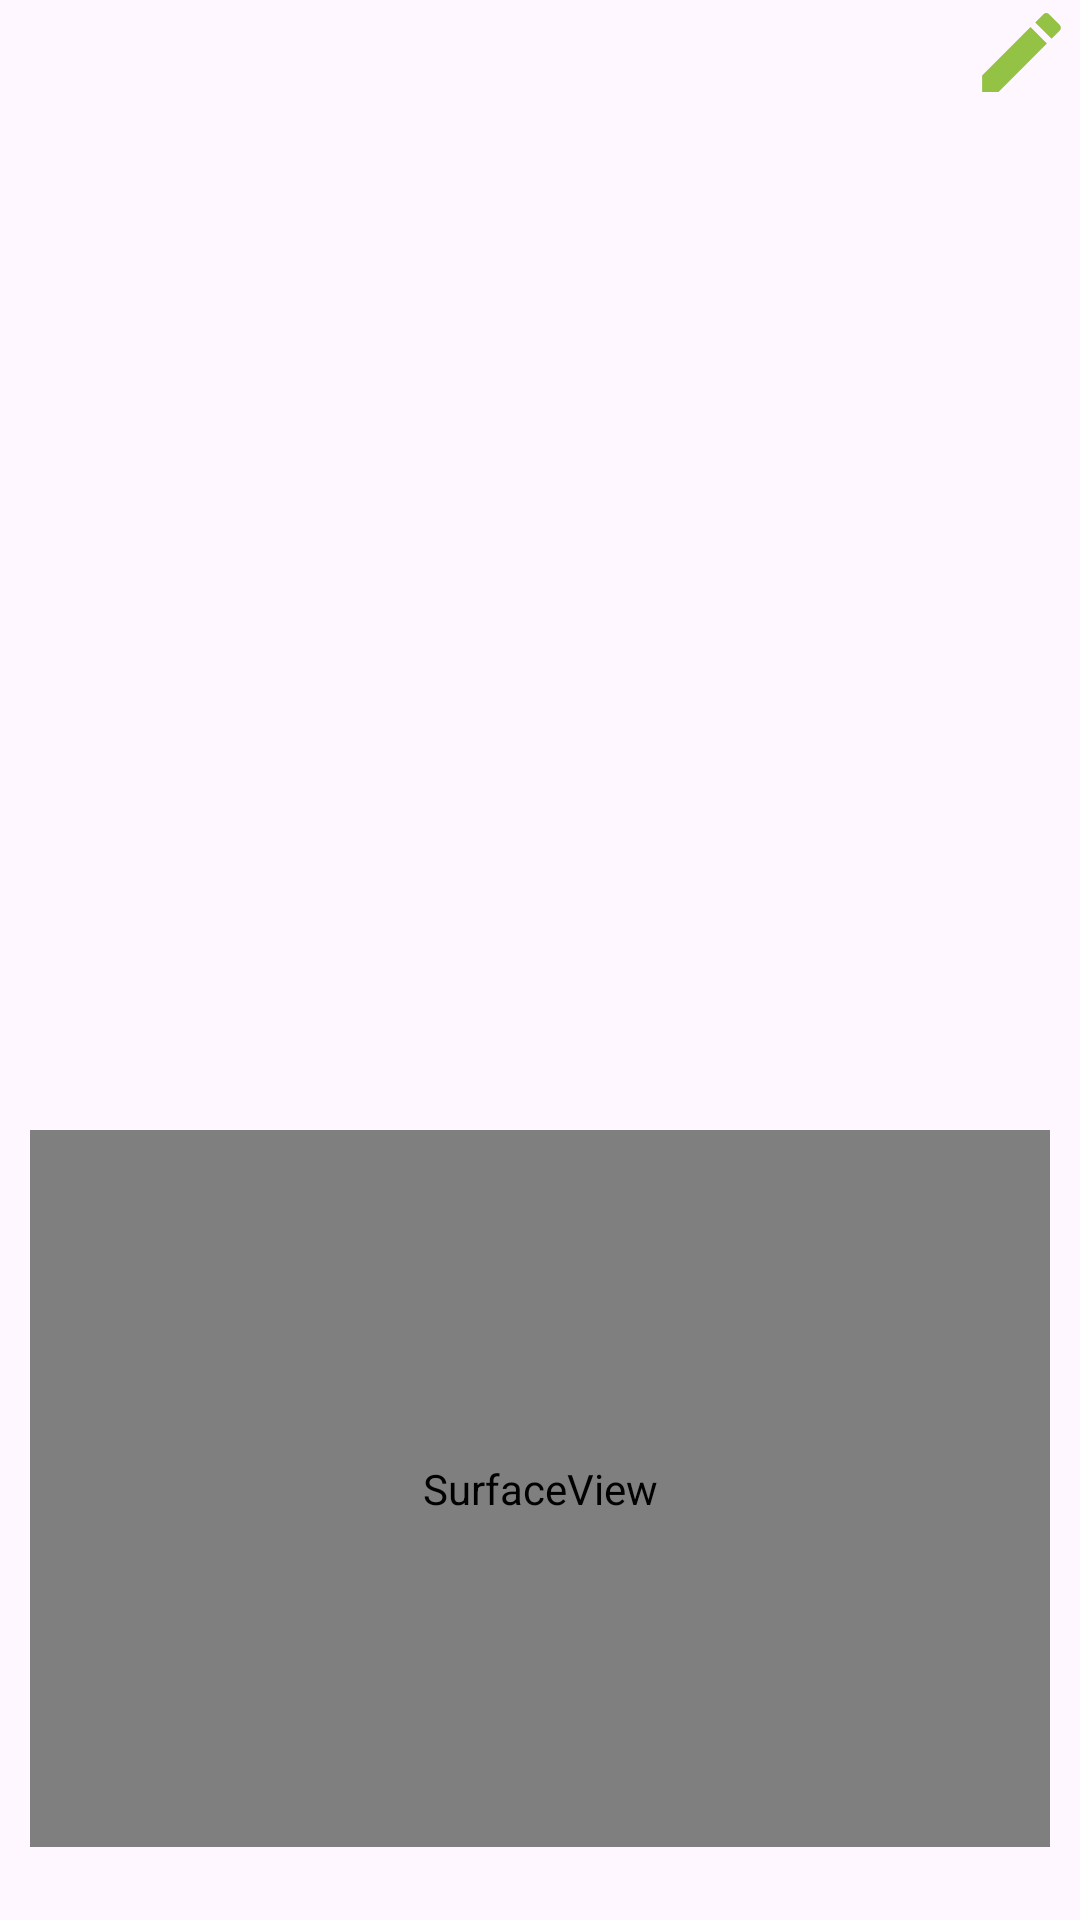

Screen size 1080*1920. Icon name, then its box in pixels as (x1, y1, x2, y2):
edit: (982, 13, 1061, 92)
